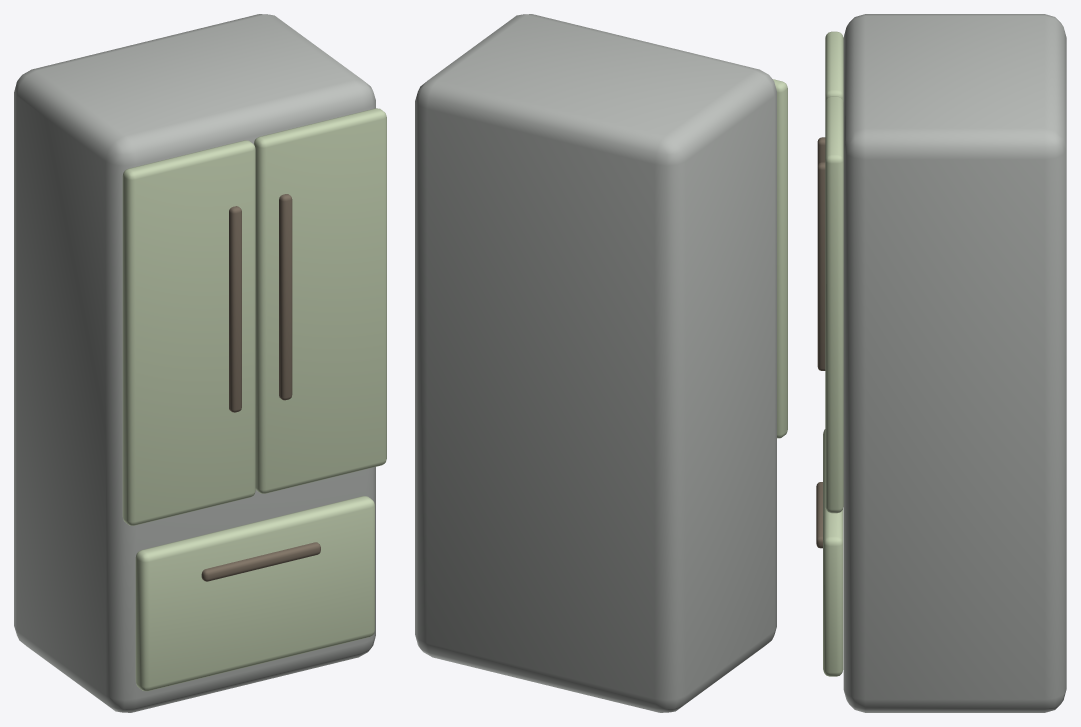
Rendered from refrigerator.glb.
3 views of the same model, side by side, from view 1: azimuth 30°, elevation 25°; view 2: azimuth 150°, elevation 25°; view 3: azimuth 270°, elevation 25° (orthographic).
Parts seen in each view (by area): view 1: refrigerator; view 2: refrigerator; view 3: refrigerator.
Part boxes in pixels (x1,y1,x2,y2): refrigerator: (14, 14, 386, 712); refrigerator: (415, 14, 787, 712); refrigerator: (816, 14, 1066, 712).
Size of the model in its own units: 0.9 by 1.85 by 0.72.
